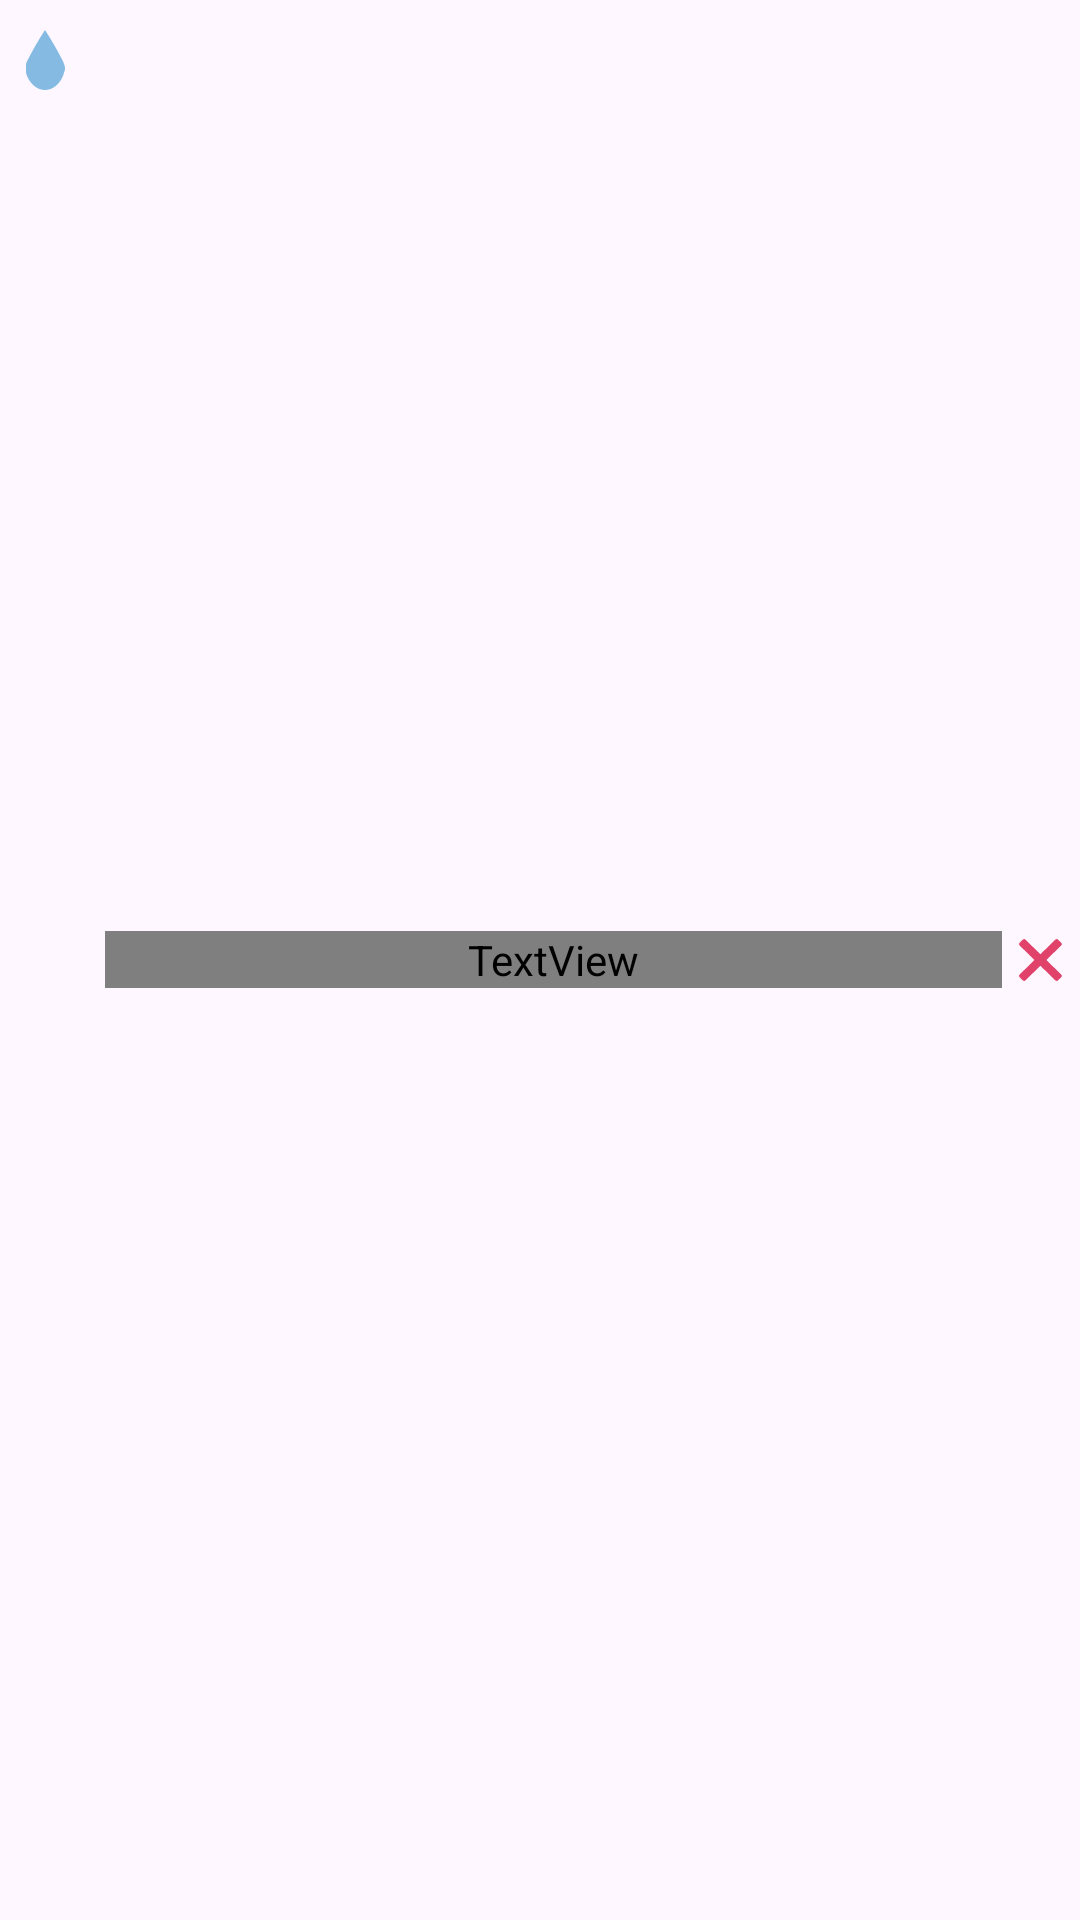

Screen size 1080 x 1920. Icon name, then its box in pixels as (x1, y1, x2, y2):
system habit del: (1019, 939, 1062, 981)
